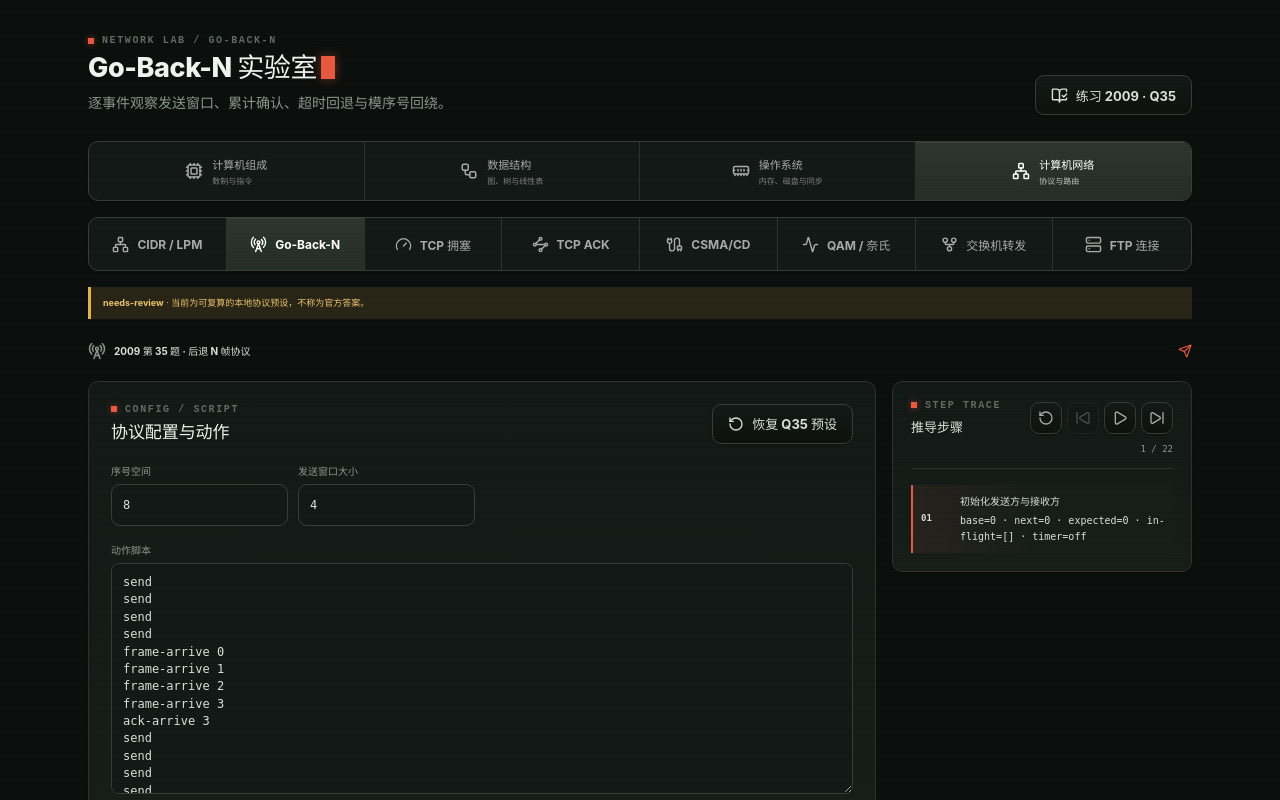
Test: GbnLabPage › keeps the sender window visualization synchronized with StepExplorer
Step 1. Click the button named "下一步" → (1157, 418), box [1141,402,1173,434]
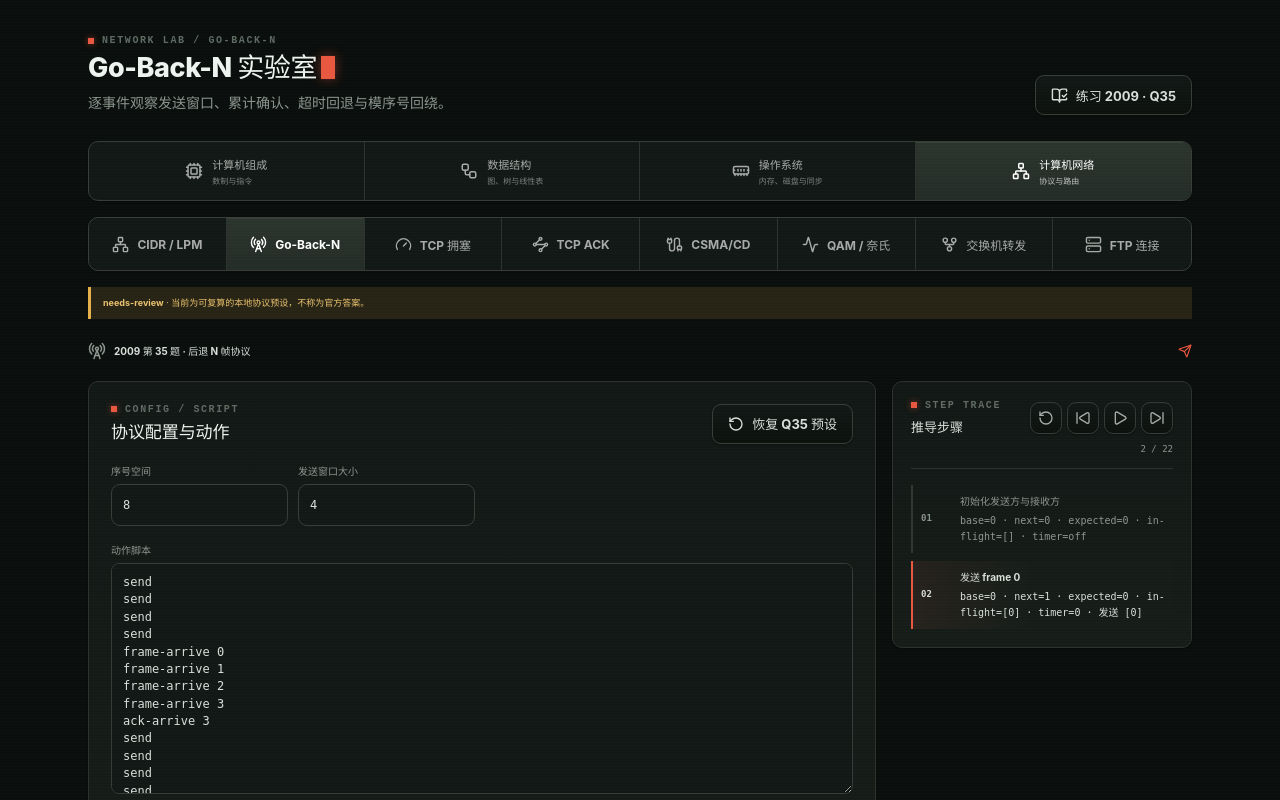
Expected: the button named "播放步骤" is enabled, [1104,402,1136,434]
Now the text "发送 frame 0" is shown 2 times
